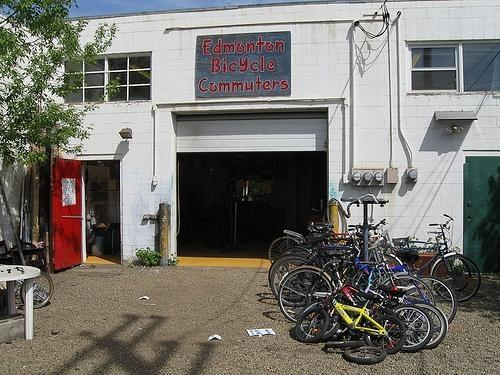bicycle: (294, 274, 404, 352), (392, 214, 480, 302), (270, 240, 394, 296), (278, 260, 350, 320), (269, 224, 360, 264), (397, 283, 448, 348), (20, 258, 55, 309), (420, 278, 456, 324), (400, 308, 432, 348), (279, 240, 324, 256), (348, 218, 388, 234)
